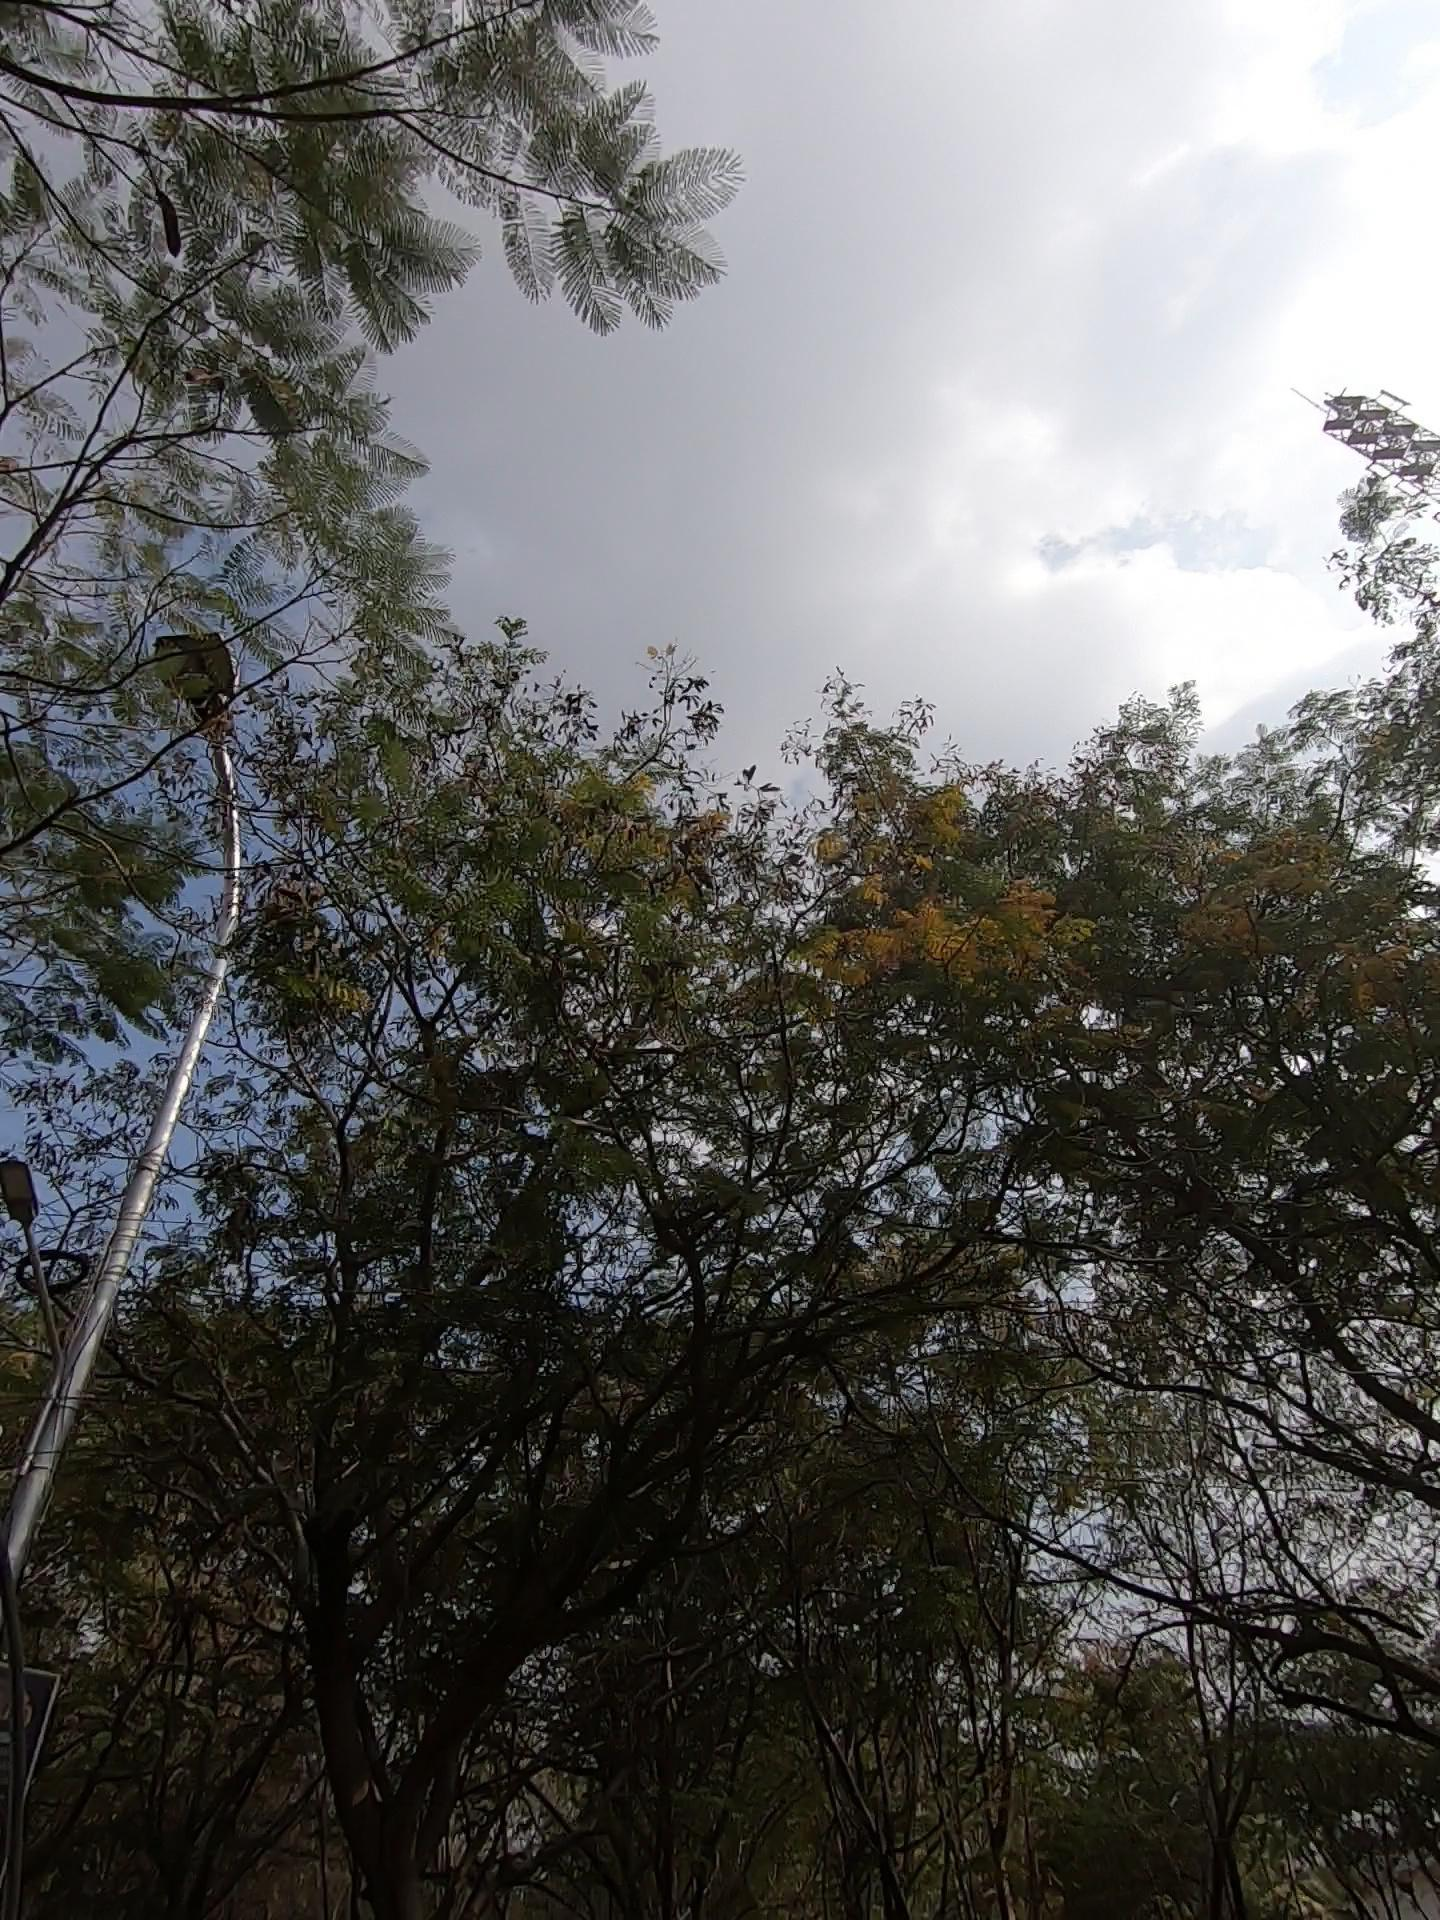off: (80, 541, 407, 999)
